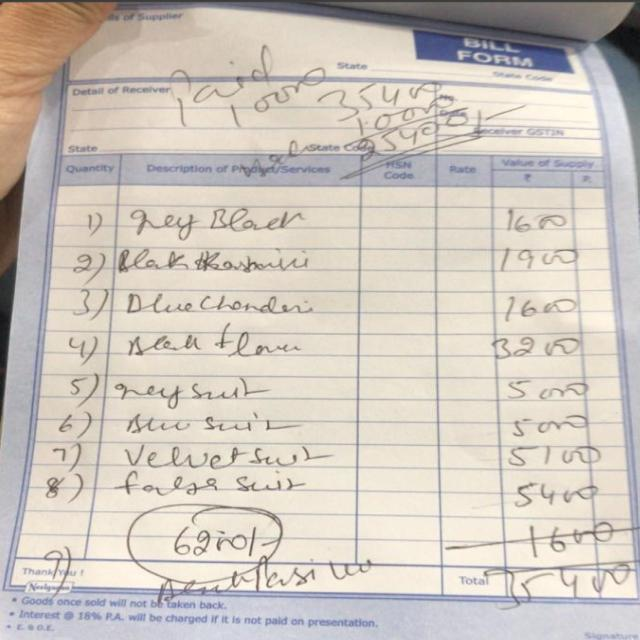items: (40, 187, 640, 518)
tot: (425, 528, 640, 622)
